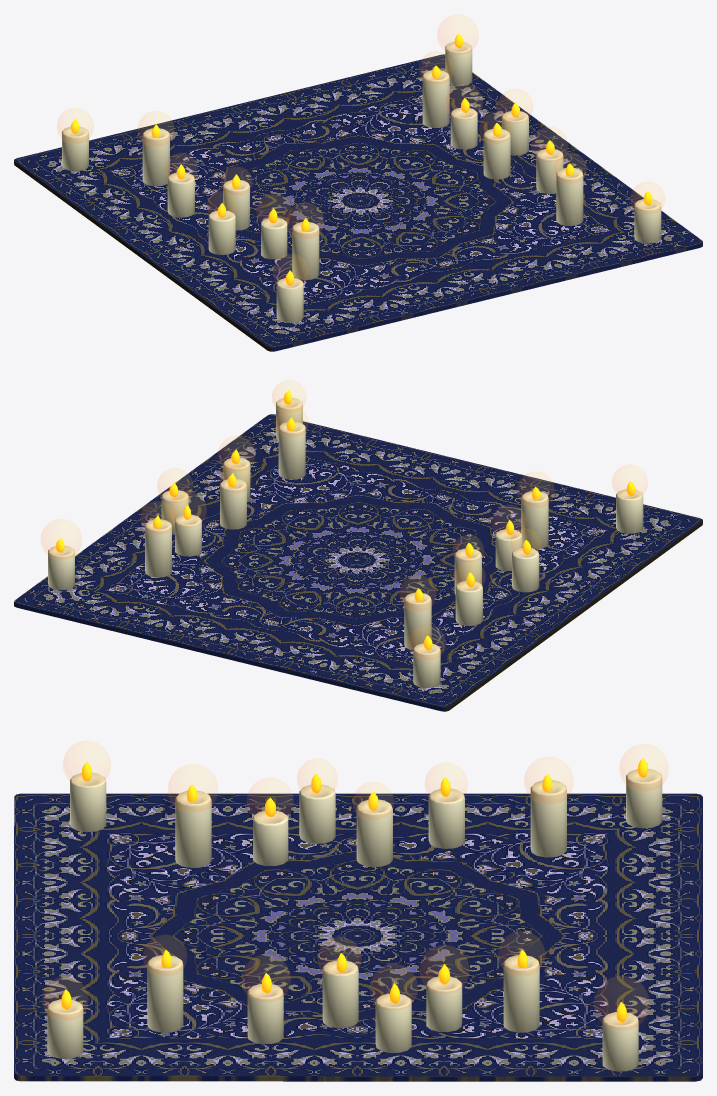
The model's file is carpetcandles.glb.
3 views of the same model, one above another, from view 1: azimuth 30°, elevation 25°; view 2: azimuth 150°, elevation 25°; view 3: azimuth 270°, elevation 25° (orthographic). The views are drawn at different scales.
Visible parts, largest first — view 1: carpet; view 2: carpet; view 3: carpet.
Part boxes in pixels (x1=…): carpet: x1=14, y1=33, x2=702, y2=351; carpet: x1=14, y1=390, x2=702, y2=711; carpet: x1=14, y1=758, x2=702, y2=1081.
Size of what is drawn, in the model's own units: 5.82 by 0.9512 by 5.99.
4 materials, 1 textured.
